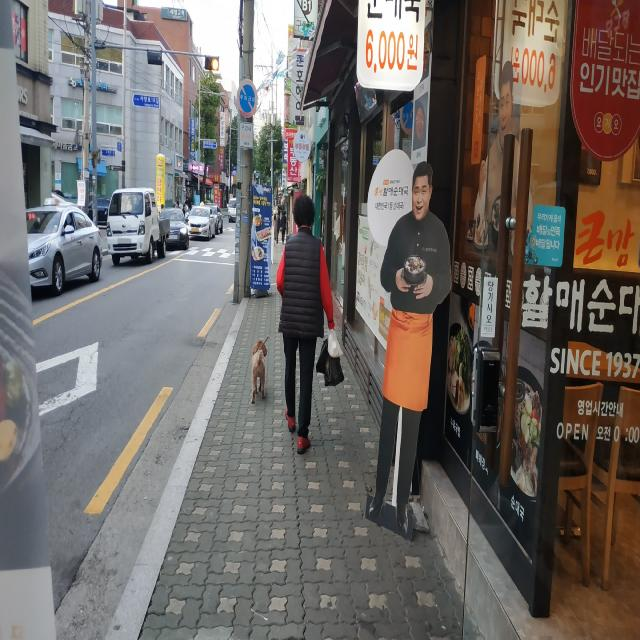횡단보도: (180, 242, 244, 268), (274, 237, 286, 243)
